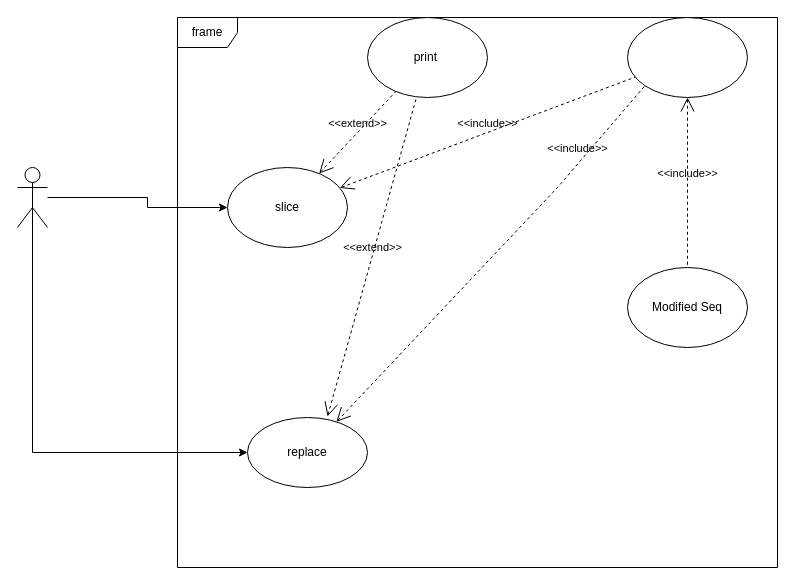
This 795x585 diagram has some shape labels left out. The box of each missing label's shape, as (x1, y1, x2, y2) in pixels:
Actor: (16, 166, 48, 228)
create new sequence: (626, 16, 748, 98)
